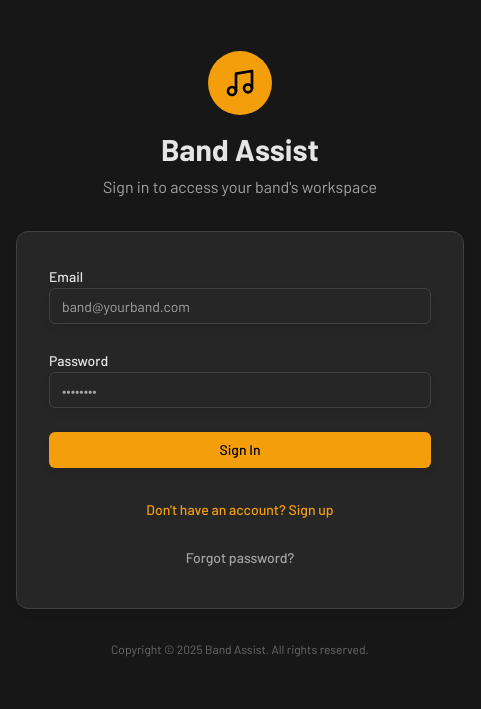
Test: Login › form submission › shows error on failed login
Type "test@example.com" into the field labelled "Email".
click(240, 306); type("test@example.com")  # box [49,288,431,324]
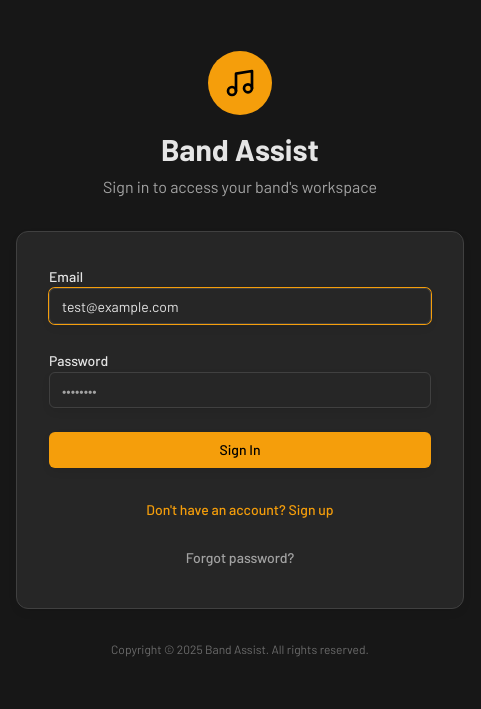
Type "WrongPass1!" into the password field labelled "Password".
click(240, 390); type("WrongPass1!")  # box [49,372,431,408]
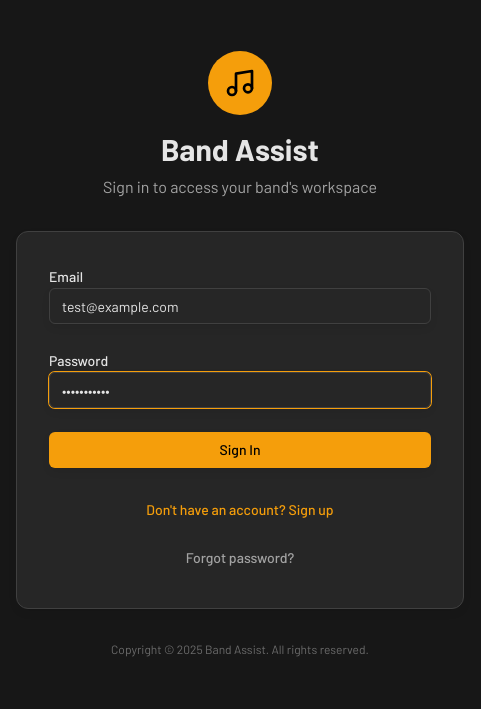
Click the button "Sign In".
click(240, 450)  # box [49,432,431,468]
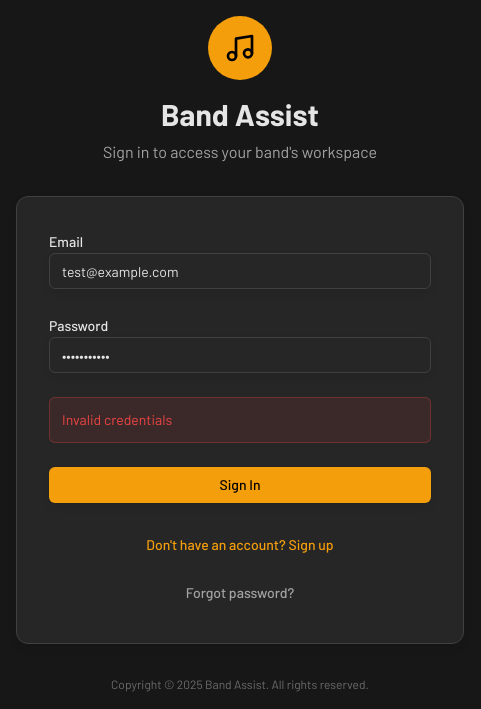
Expected: the message "Invalid credentials" is shown, [49,397,431,443]
